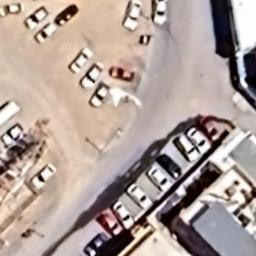SUV: (93, 208, 123, 240)
pickup: (23, 6, 48, 32)
sedan: (27, 160, 59, 191), (185, 121, 213, 154), (122, 182, 154, 208), (112, 199, 138, 230), (66, 46, 94, 74), (146, 164, 172, 194), (52, 2, 82, 28), (198, 113, 224, 142), (79, 231, 109, 256), (89, 80, 113, 111), (122, 1, 144, 33), (80, 61, 105, 89)
unknown: (156, 151, 184, 180), (150, 0, 172, 28), (108, 63, 136, 83)
van: (170, 132, 202, 164), (37, 19, 58, 46)
